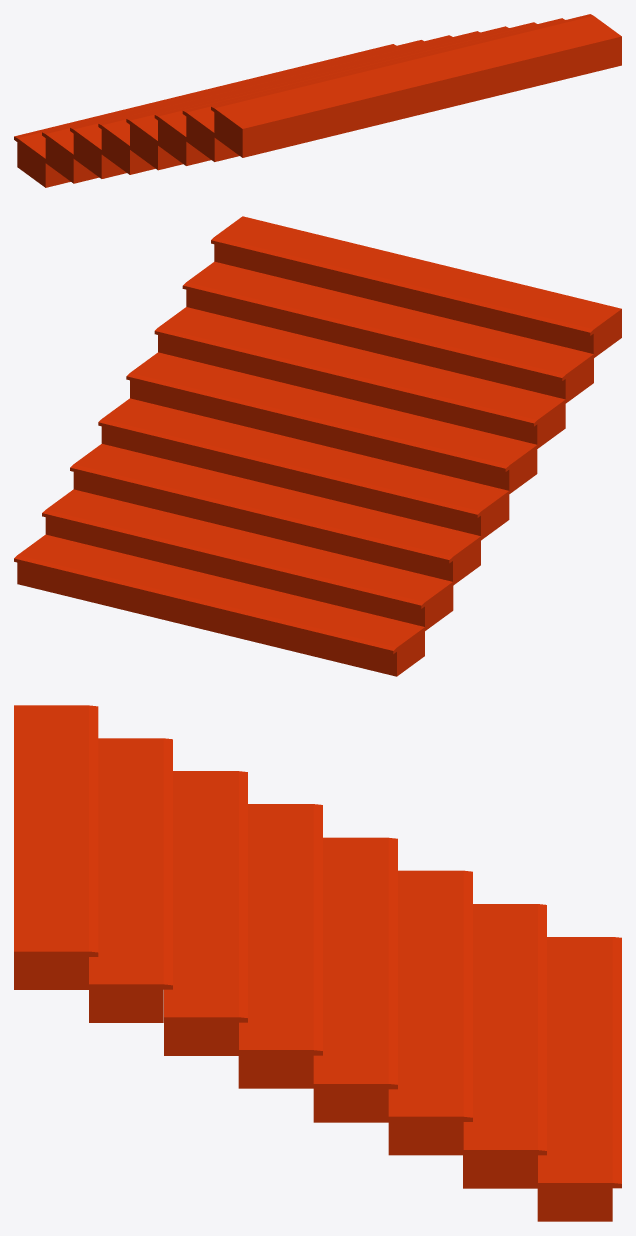
Rendered from Stairs_Cellar.fbx.
The picture shows the model from 3 angles, top to bottom: view 1: azimuth 30°, elevation 25°; view 2: azimuth 150°, elevation 25°; view 3: azimuth 270°, elevation 25°; orthographic projection. The views are drawn at different scales.
Visible parts, largest first — view 1: Stairs_Cellar; view 2: Stairs_Cellar; view 3: Stairs_Cellar.
Boxes of the visible parts, bbox=[...] form: Stairs_Cellar: bbox=[14, 14, 621, 187]; Stairs_Cellar: bbox=[14, 216, 621, 676]; Stairs_Cellar: bbox=[14, 705, 621, 1221].
Size of the model in its own units: 292 by 149 by 304.
